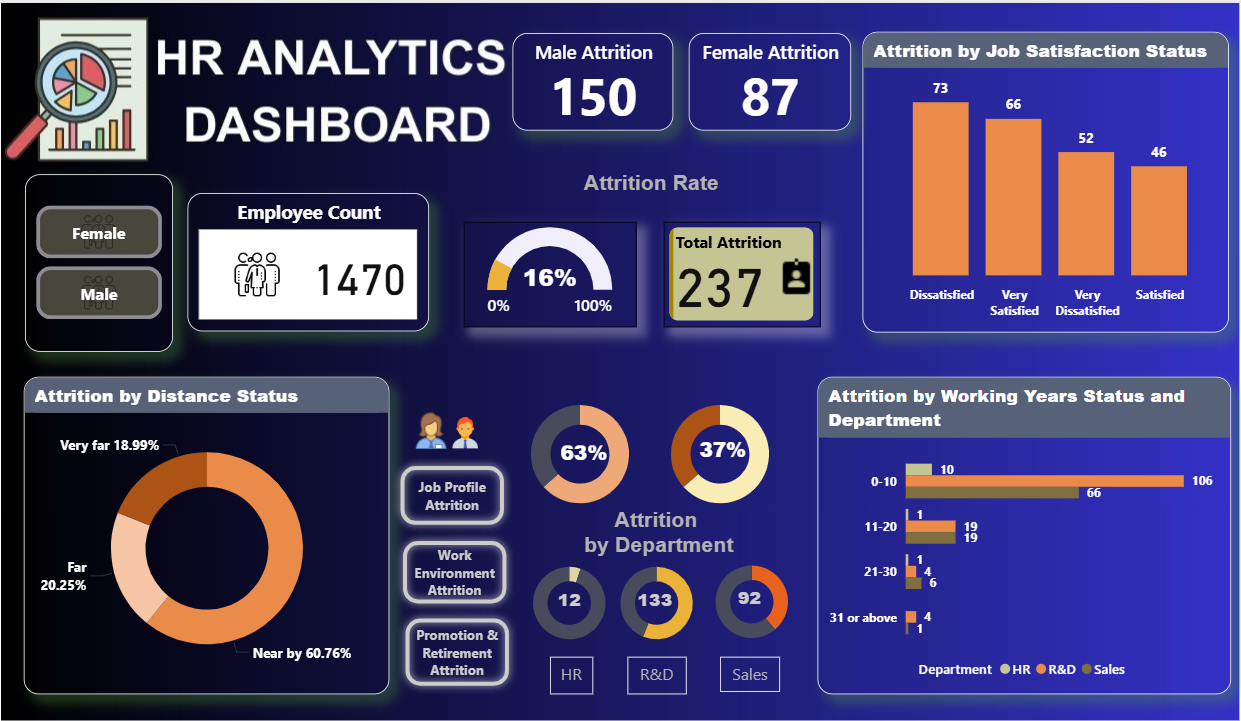

This screenshot's page, from the dashboard's own definition file:
{"tool":"powerbi","page":{"name":" Attrition Report","canvas":[1280,720],"ordinal":0},"visuals":[{"type":"cardVisual","title":"Employee Count","fields":{"Data":["Measurements.# Employees"]},"box":[207.8,190.4,241.3,138.1],"z":0},{"type":"donutChart","title":"Attrition by Distance Status","fields":{"Y":["Measurements.# Attrition"],"Category":["Dim_Employees Job Status.Distance Status"]},"box":[44.2,374,366,317.7],"z":1000},{"type":"clusteredBarChart","title":"Attrition by Working Years Status and Department","fields":{"Category":["Dim_Employees.Working Years Status"],"Y":["Measurements.# Attrition"],"Series":["Dim_Employees Department.Department"]},"box":[837.3,374,413.8,317.3],"z":2000},{"type":"columnChart","title":"Attrition by Job Satisfaction Status","fields":{"Category":["Fact_HR Attrition.Job Satisfaction Status"],"Y":["Measurements.# Attrition"]},"box":[883.1,29,366.8,300.4],"z":3000},{"type":"donutChart","fields":{"Y":["Measurements.HR Department Attrition","Measurements.Remain HR"]},"box":[532.2,549.6,114,100.5],"z":4000},{"type":"donutChart","fields":{"Y":["Measurements.Sales Department Attrition","Measurements.Remain Sales"]},"box":[714.5,548.3,114,100.5],"z":5000},{"type":"donutChart","fields":{"Y":["Measurements.R&D Department Attrition","Measurements.Remain R&D"]},"box":[622,549.6,108.6,100.5],"z":6000},{"type":"donutChart","fields":{"Category":["Dim_Employees.Gender"],"Y":["Measurements.# Attrition"]},"box":[663.6,384.8,152.8,132.7],"z":7000},{"type":"donutChart","fields":{"Category":["Dim_Employees.Gender"],"Y":["Measurements.# Attrition"]},"box":[524.2,384.8,152.8,132.7],"z":8000},{"type":"textbox","box":[571.9,144.8,200.3,54.3],"z":9000},{"type":"card","fields":{"Values":["Measurements.HR Department Attrition"]},"box":[569.8,579.1,38.9,38.9],"z":10000},{"type":"card","fields":{"Values":["Measurements.R&D Department Attrition"]},"box":[646.2,579.1,57.6,38.9],"z":11000},{"type":"card","fields":{"Values":["Measurements.Sales Department Attrition"]},"box":[745.4,576.5,49.6,40.2],"z":12000},{"type":"textbox","box":[569.8,654.2,42.9,37.5],"z":13000},{"type":"textbox","box":[740,654.2,60.3,34.9],"z":14000},{"type":"textbox","box":[647.5,654.2,59,37.5],"z":15000},{"type":"textbox","box":[560.4,500,231.9,76.4],"z":16000},{"type":"card","fields":{"Values":["Measurements.Male Attrition %"]},"box":[572.4,437,63,28.2],"z":17000},{"type":"card","fields":{"Values":["Measurements.Female Attrition %"]},"box":[709.4,429.5,65.9,37],"z":18000},{"type":"card","title":"Female Attrition","fields":{"Values":["Measurements.# Attrition"]},"box":[709.2,29.5,162.2,97.9],"z":19000},{"type":"card","title":"Male Attrition","fields":{"Values":["Measurements.Male_Attrition"]},"box":[532.2,29.5,160.9,97.9],"z":20000},{"type":"advancedSlicerVisual","title":"Gender Slicer","fields":{"Values":["Dim_Employees.Gender"]},"box":[44.6,171.3,148.4,177.3],"z":21000},{"type":"actionButton","box":[412.6,454.8,119.4,74.8],"z":22000},{"type":"actionButton","box":[417.4,608,119.4,83.2],"z":23000},{"type":"actionButton","box":[415,529.6,119.4,78.4],"z":24000},{"type":"gauge","fields":{"Y":["Measurements.% Attrition"]},"box":[484,218.5,172.9,105.9],"z":25000},{"type":"cardVisual","fields":{"Data":["Measurements.Total Attrition"]},"box":[683.7,218.5,156.9,105.9],"z":26000},{"type":"image","box":[237.3,237.3,79.1,68.4],"z":27000},{"type":"image","box":[416.9,403.5,67,48.3],"z":28000},{"type":"image","box":[460.9,404.2,48.3,51.9],"z":29000},{"type":"image","box":[791,242.6,50.9,63],"z":30000}]}

Visuals, with their boxes on the page's 1280x720 design canvas (x1, y1, x2, y2). These are canvas units, not pixel positions in the 1241x721 screenshot, which may show the page scaled, cropped or inside an application window:
"Employee Count" cardVisual: select_region(208, 190, 449, 328)
"Attrition by Distance Status" donutChart: select_region(44, 374, 410, 692)
"Attrition by Working Years Status and Department" clusteredBarChart: select_region(837, 374, 1251, 691)
"Attrition by Job Satisfaction Status" columnChart: select_region(883, 29, 1250, 329)
donutChart - Measurements.HR Department Attrition x Measurements.Remain HR: select_region(532, 550, 646, 650)
donutChart - Measurements.Sales Department Attrition x Measurements.Remain Sales: select_region(714, 548, 828, 649)
donutChart - Measurements.R&D Department Attrition x Measurements.Remain R&D: select_region(622, 550, 731, 650)
donutChart - Dim_Employees.Gender x Measurements.# Attrition: select_region(664, 385, 816, 518)
donutChart - Dim_Employees.Gender x Measurements.# Attrition: select_region(524, 385, 677, 518)
textbox: select_region(572, 145, 772, 199)
card - Measurements.HR Department Attrition: select_region(570, 579, 609, 618)
card - Measurements.R&D Department Attrition: select_region(646, 579, 704, 618)
card - Measurements.Sales Department Attrition: select_region(745, 576, 795, 617)
textbox: select_region(570, 654, 613, 692)
textbox: select_region(740, 654, 800, 689)
textbox: select_region(648, 654, 706, 692)
textbox: select_region(560, 500, 792, 576)
card - Measurements.Male Attrition %: select_region(572, 437, 635, 465)
card - Measurements.Female Attrition %: select_region(709, 430, 775, 466)
"Female Attrition" card: select_region(709, 30, 871, 127)
"Male Attrition" card: select_region(532, 30, 693, 127)
"Gender Slicer" advancedSlicerVisual: select_region(45, 171, 193, 349)
actionButton: select_region(413, 455, 532, 530)
actionButton: select_region(417, 608, 537, 691)
actionButton: select_region(415, 530, 534, 608)
gauge - Measurements.% Attrition: select_region(484, 218, 657, 324)
cardVisual - Measurements.Total Attrition: select_region(684, 218, 841, 324)
image: select_region(237, 237, 316, 306)
image: select_region(417, 404, 484, 452)
image: select_region(461, 404, 509, 456)
image: select_region(791, 243, 842, 306)
